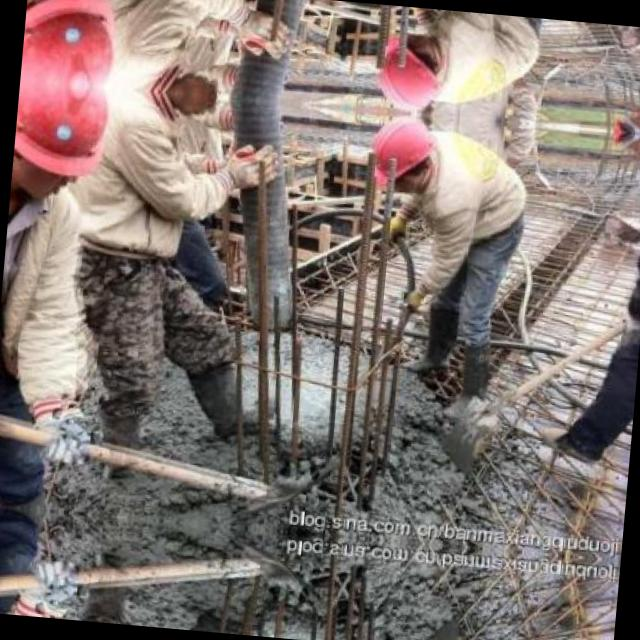helmet: (11, 80, 116, 206), (21, 0, 127, 87), (358, 113, 448, 208), (367, 18, 456, 113)
